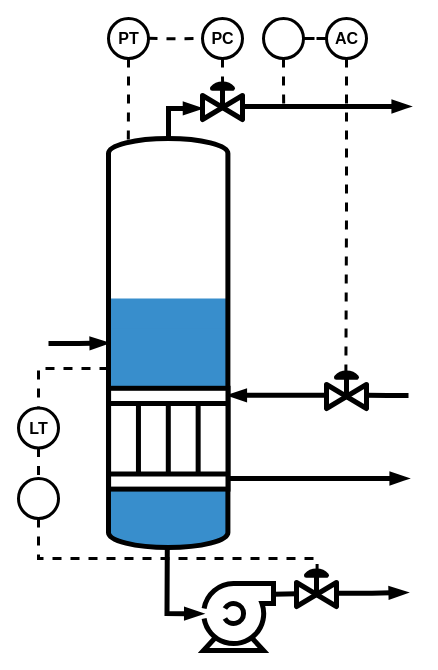
The diagram is 438 pixels wide and 670 high, and some of its shapes have lost their labels. Each missing label, with the box of its shape:
AT: (262, 16, 304, 60)
LC: (16, 476, 60, 520)
